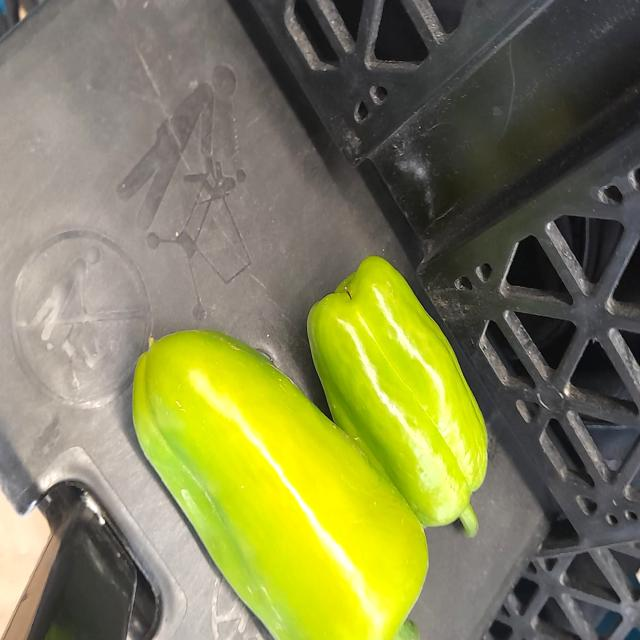bell pepper: (127, 312, 438, 640), (297, 236, 493, 538)
